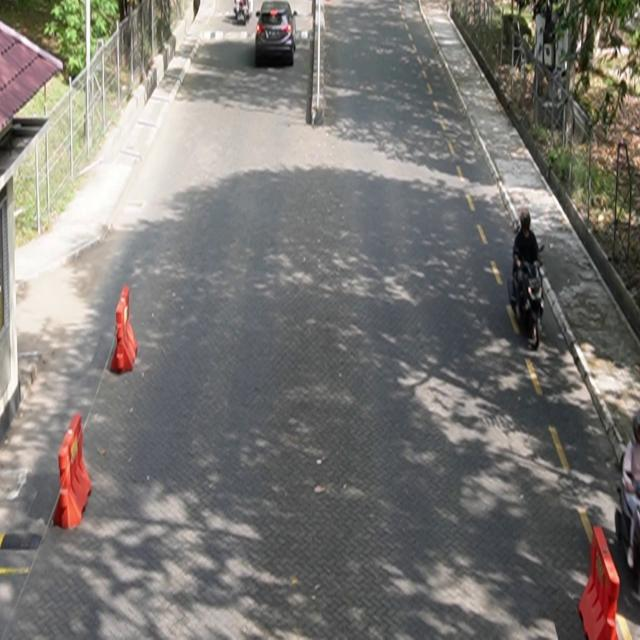car: (256, 1, 298, 68)
